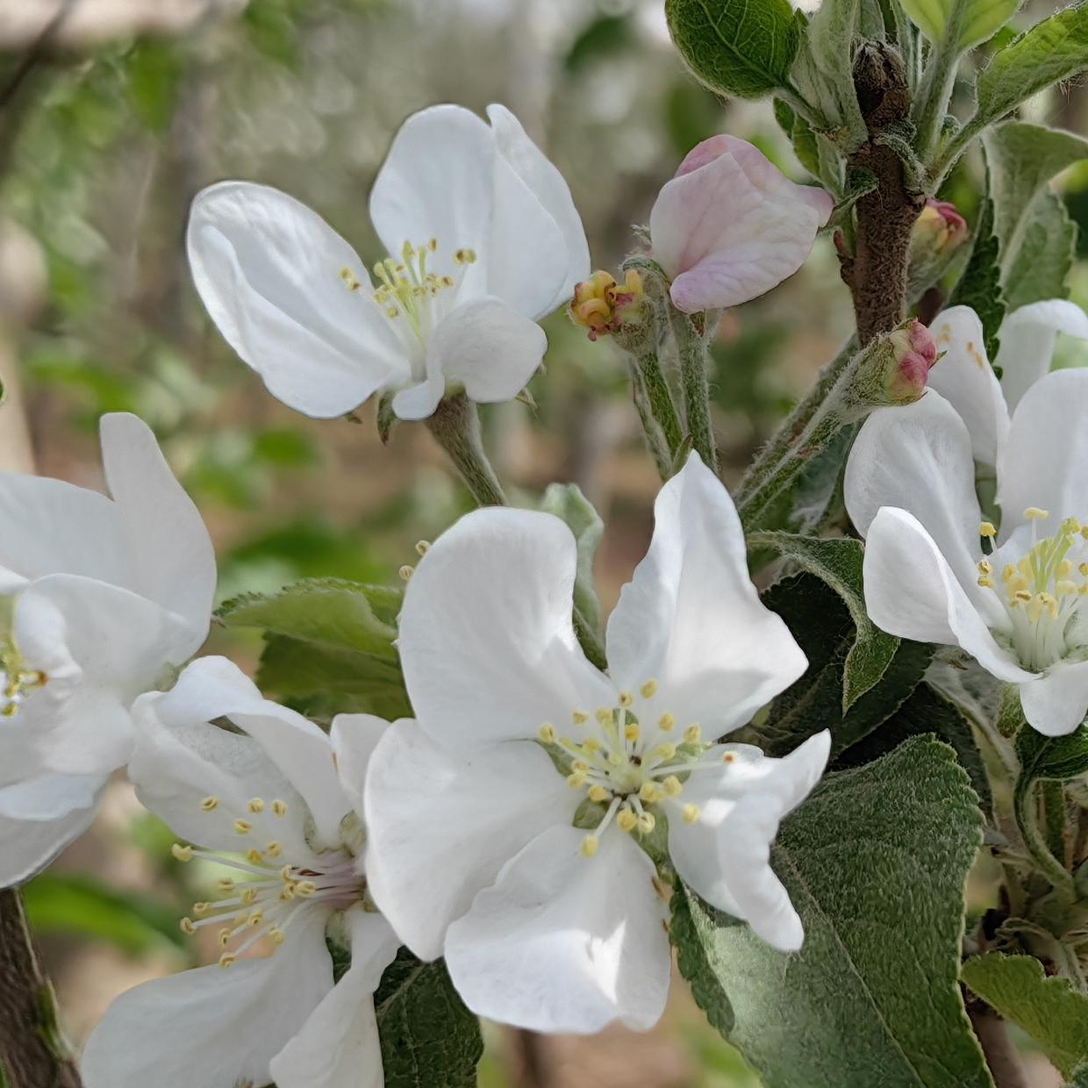apple_flower: (0, 104, 831, 1088), (845, 298, 1088, 734)
